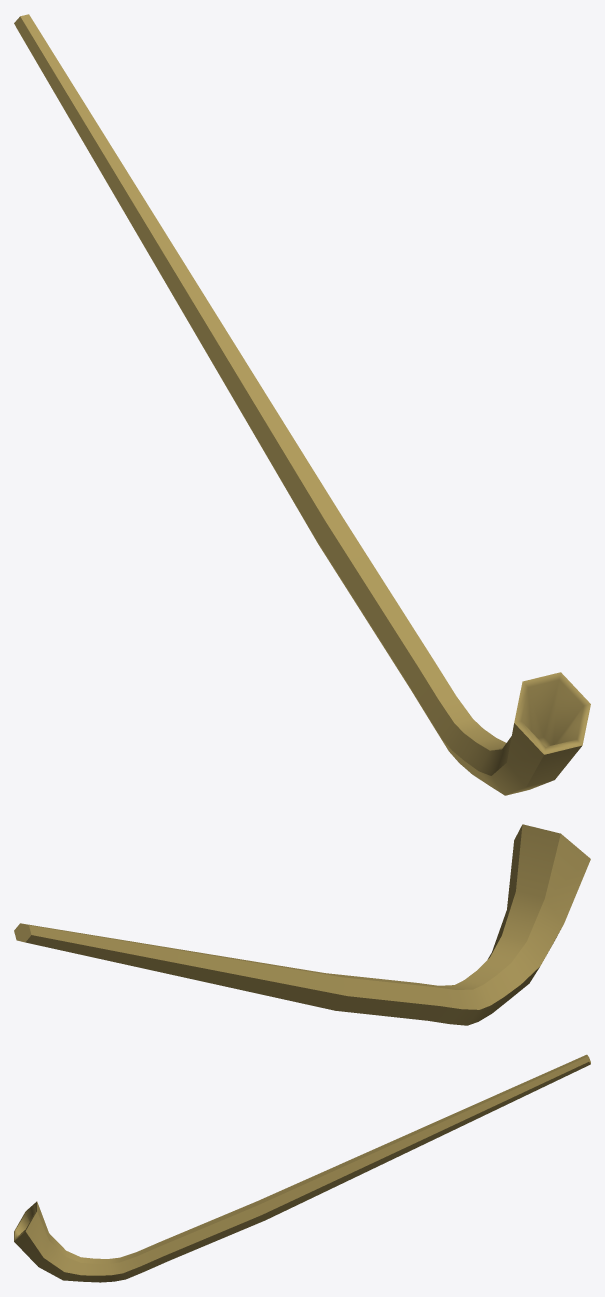
File: AlpineHornModel.fbx
The picture shows the model from 3 angles, top to bottom: view 1: azimuth 30°, elevation 25°; view 2: azimuth 150°, elevation 25°; view 3: azimuth 270°, elevation 25°; orthographic projection. The views are drawn at different scales.
Parts seen in each view (by area): view 1: alpine_horn; view 2: alpine_horn; view 3: alpine_horn.
Part boxes in pixels (<box>): alpine_horn: <box>14,14,590,795</box>; alpine_horn: <box>14,824,590,1025</box>; alpine_horn: <box>14,1054,590,1282</box>.
Size of the model in its own units: 0.5605 by 2.94 by 6.85.
